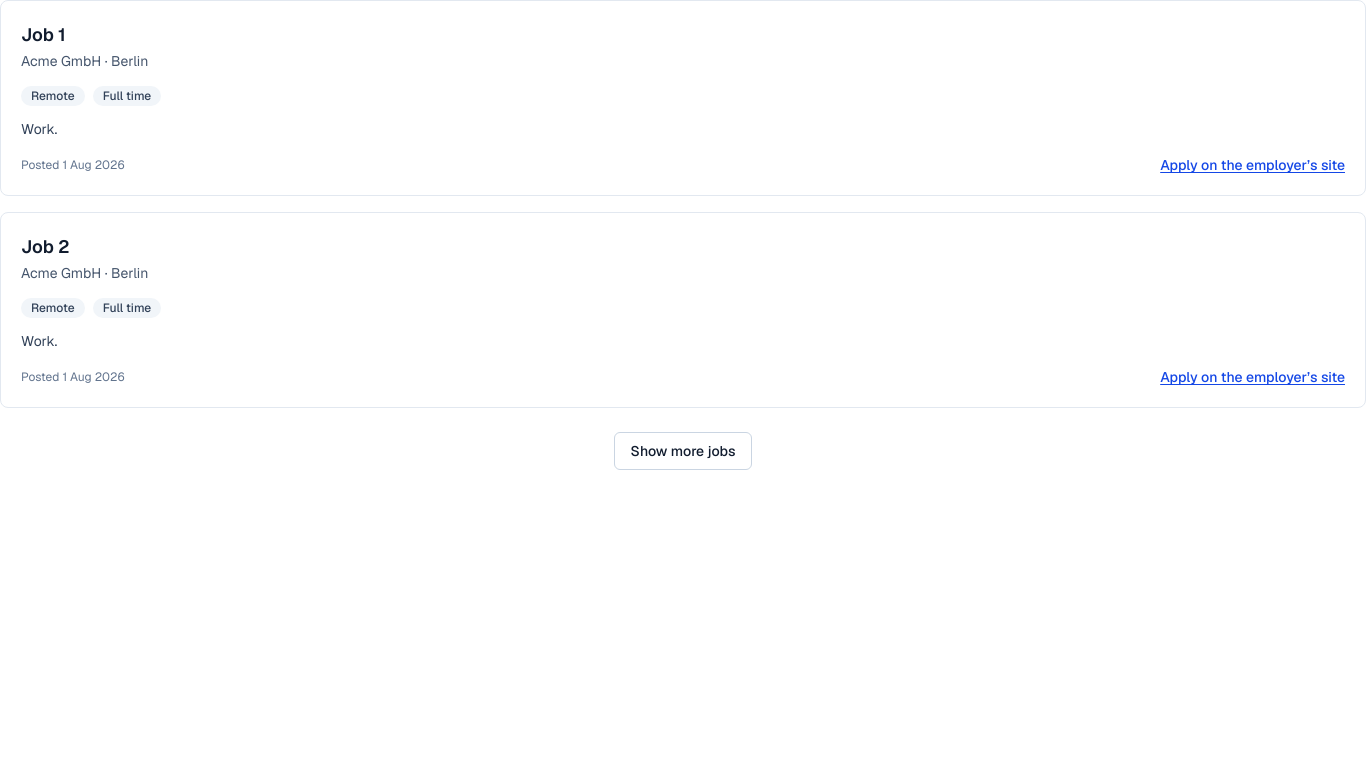
Test: JobList › appends the next batch rather than replacing what is shown
What coordinates should you click on to do the following:
click the button "Show more jobs"
I would click on:
 (683, 451)
Its box is [614,432,752,470].
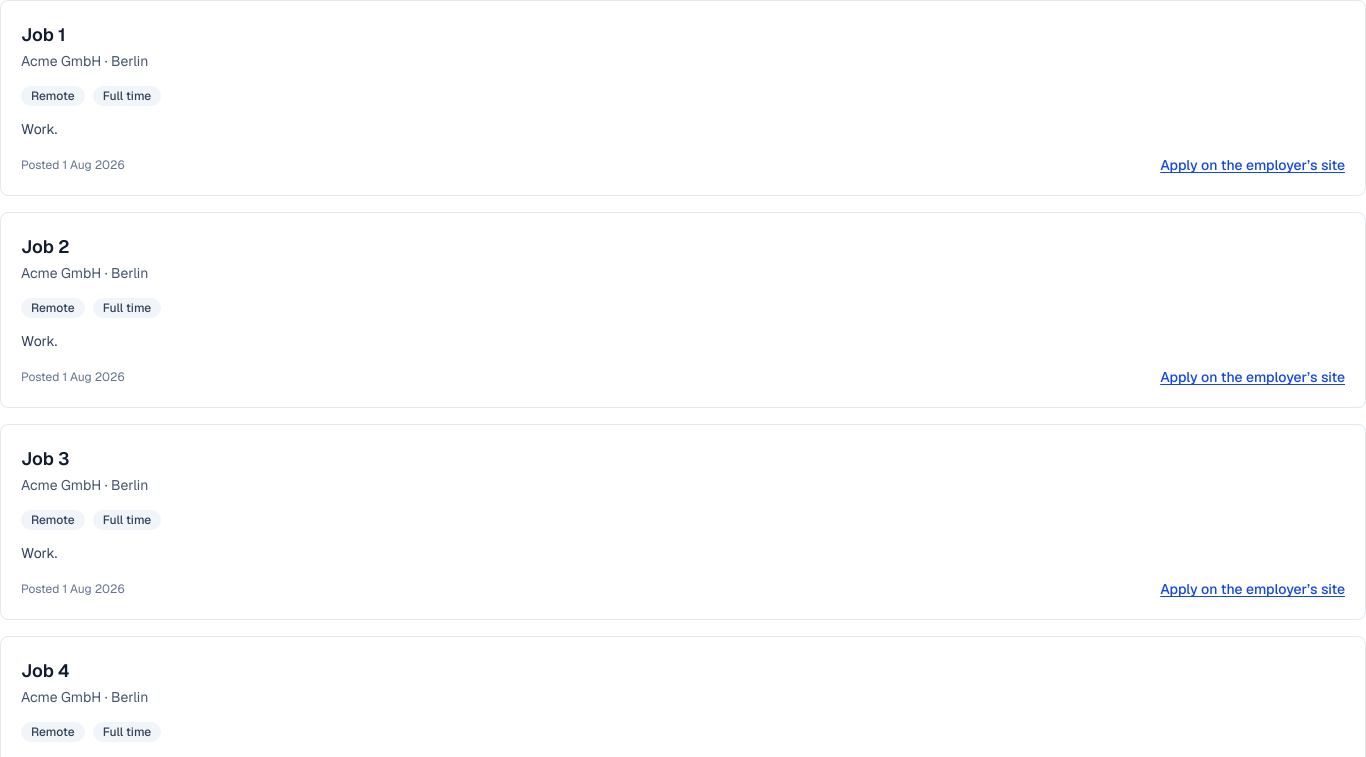
Check: the button "Show more jobs" is gone
